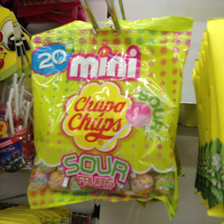candy: (32, 20, 178, 207)
